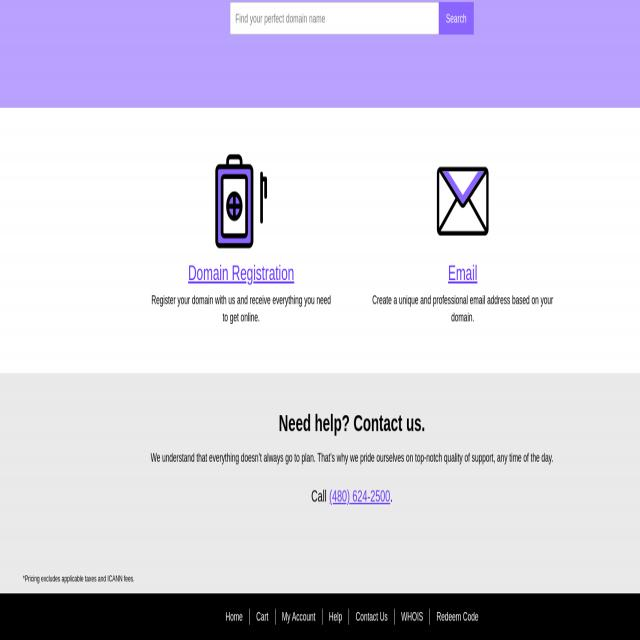button: (215, 154, 267, 248), (437, 154, 489, 248), (438, 2, 474, 36)
field: (230, 2, 439, 35)
